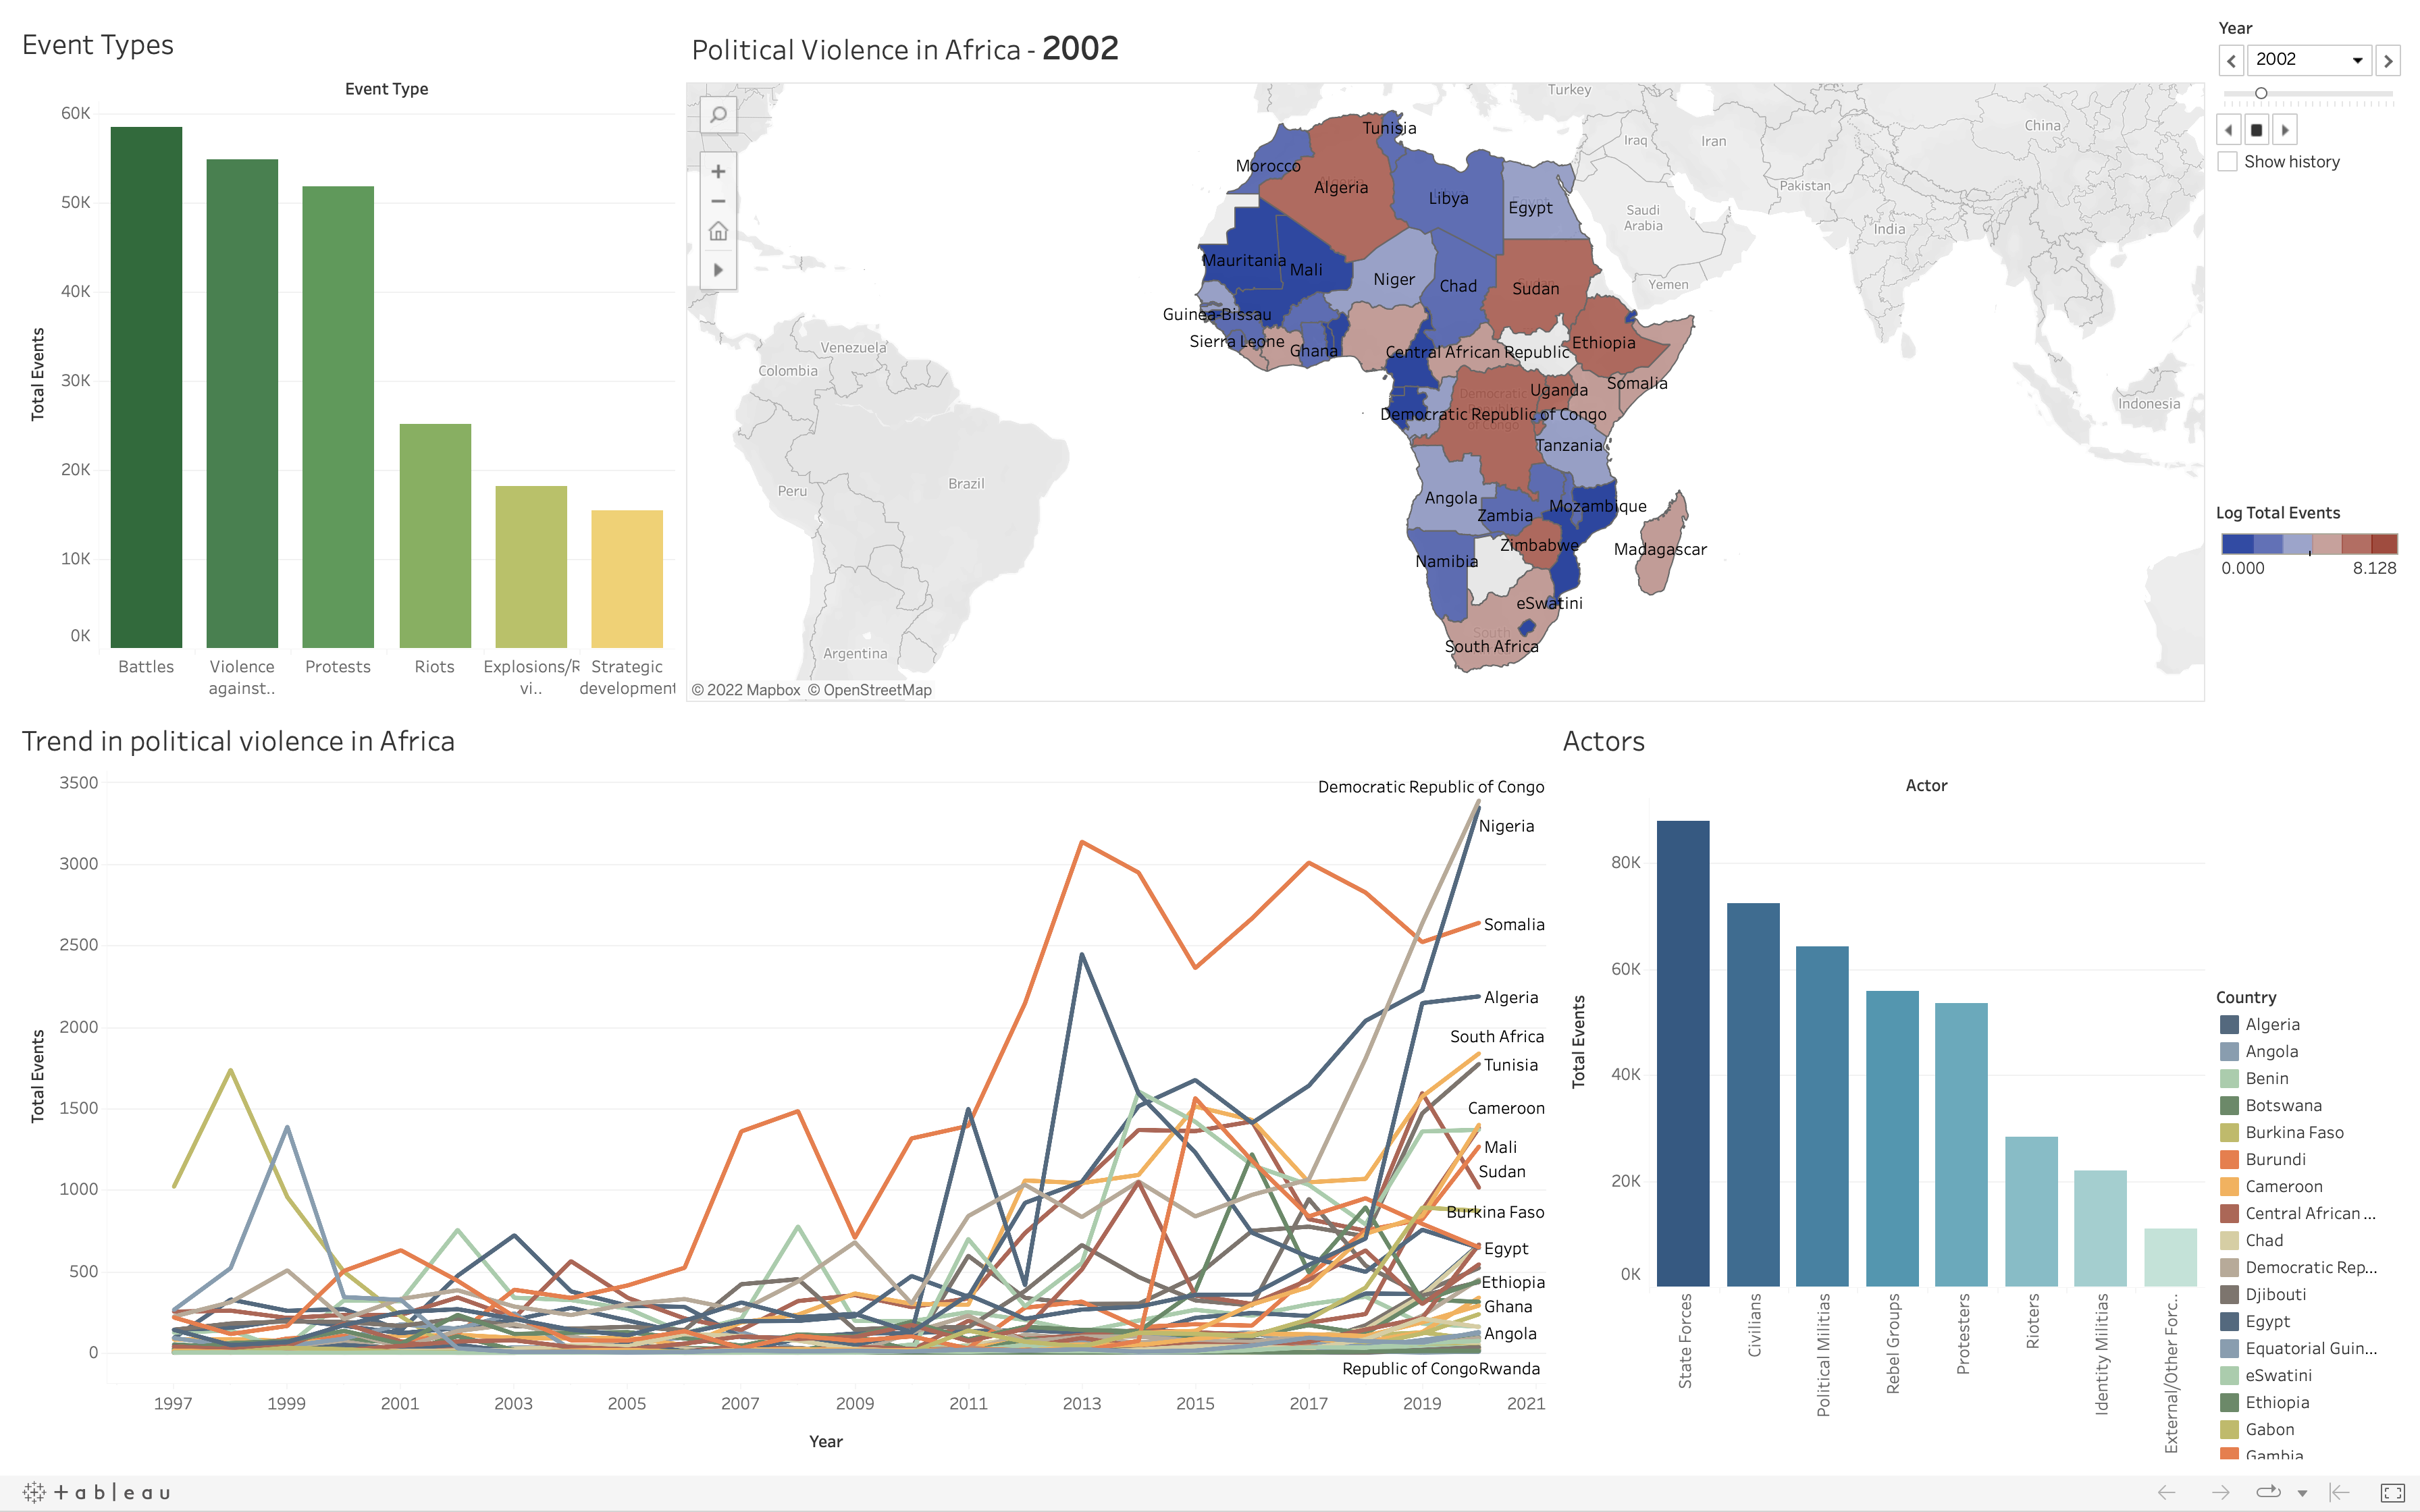

The dashboard page shown, as its layout file describes it:
{"tool":"tableau","page":{"name":"Dashboard 1","canvas":[1000,1000],"units":"permille","ordinal":0},"visuals":[{"type":"worksheet","title":"Sheet 1","mark":"Automatic","rows":["TotalTypes"],"cols":["event_type"],"box":[5.1,9.1,272.7,470.6]},{"type":"worksheet","title":"Sheet 4","mark":"Automatic","box":[277.8,9.1,623.4,470.6]},{"type":"currpage","title":"Sheet 4","box":[901.2,9.1,93.7,328.1]},{"type":"legend","title":"Sheet 4","param":"[federated.01jzybj1lqhg2h11qxr0i1e3an0b].[sum:LogTotalEvents:qk]","box":[901.2,337.1,93.7,326.9]},{"type":"worksheet","title":"Sheet 3","mark":"Automatic","rows":["TotalEvents"],"cols":["event_date"],"box":[5.1,479.6,627.8,511.4]},{"type":"worksheet","title":"Sheet 2","mark":"Automatic","rows":["TotalEvents"],"cols":["actor"],"box":[632.9,479.6,268.3,511.4]},{"type":"legend","title":"Sheet 3","param":"[federated.1gccdoz1v7p7pt1e97pl20cp33my].[none:country:nk]","box":[901.2,664,93.7,326.9]}]}

Visuals, with their boxes on the dashboard's canvas, which has no fixed pixel size, in thousandths of its width and height (x1, y1, x2, y2). These are canvas units, not pixel positions in the 2420x1512 screenshot, which may show the page scaled, cropped or inside an application window:
"Sheet 1" worksheet: left=5, top=9, right=278, bottom=480
"Sheet 4" worksheet: left=278, top=9, right=901, bottom=480
"Sheet 4" currpage: left=901, top=9, right=995, bottom=337
"Sheet 4" legend: left=901, top=337, right=995, bottom=664
"Sheet 3" worksheet: left=5, top=480, right=633, bottom=991
"Sheet 2" worksheet: left=633, top=480, right=901, bottom=991
"Sheet 3" legend: left=901, top=664, right=995, bottom=991
